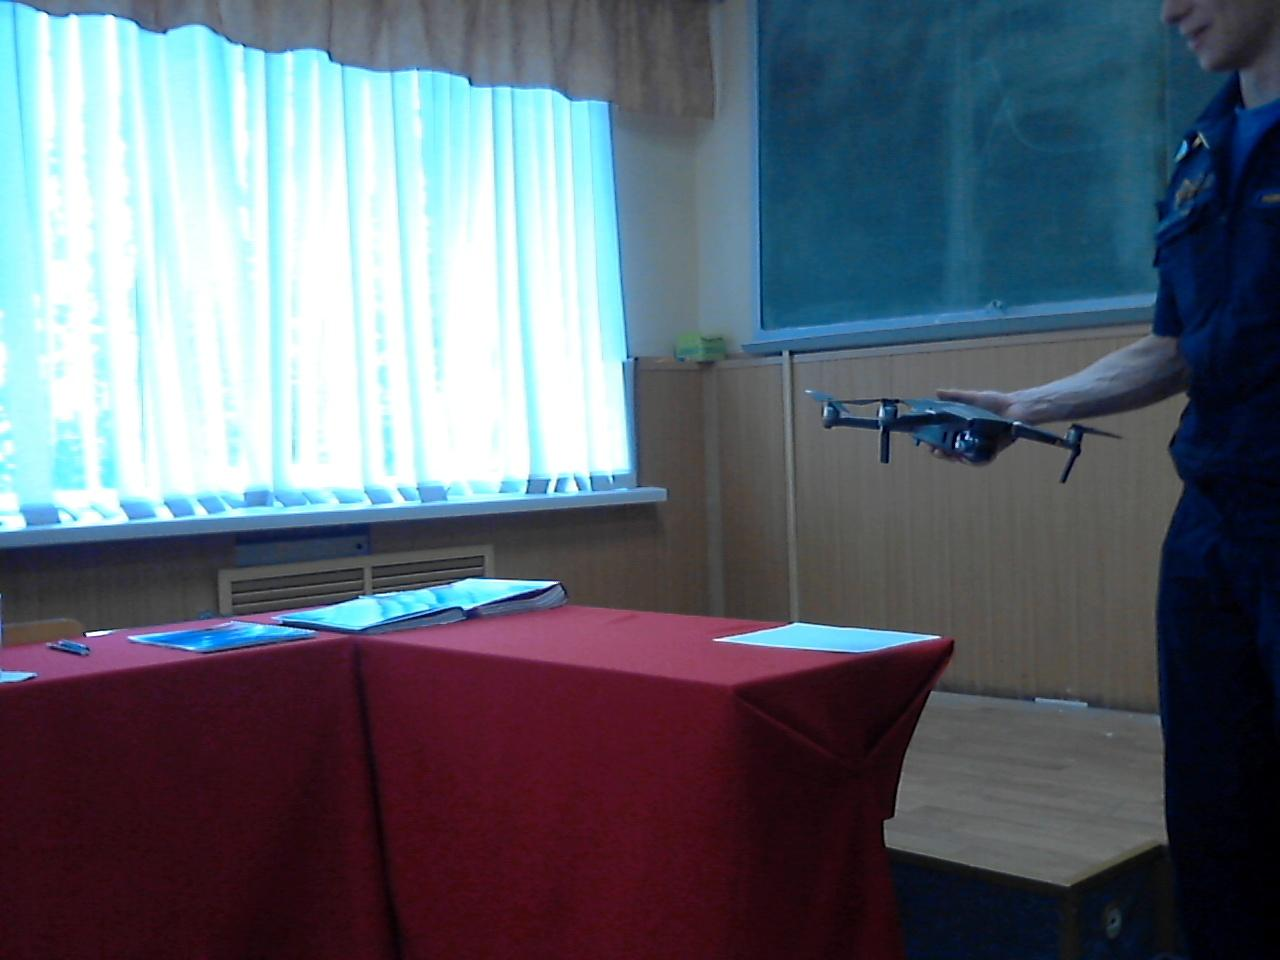drone: (778, 354, 1113, 491)
